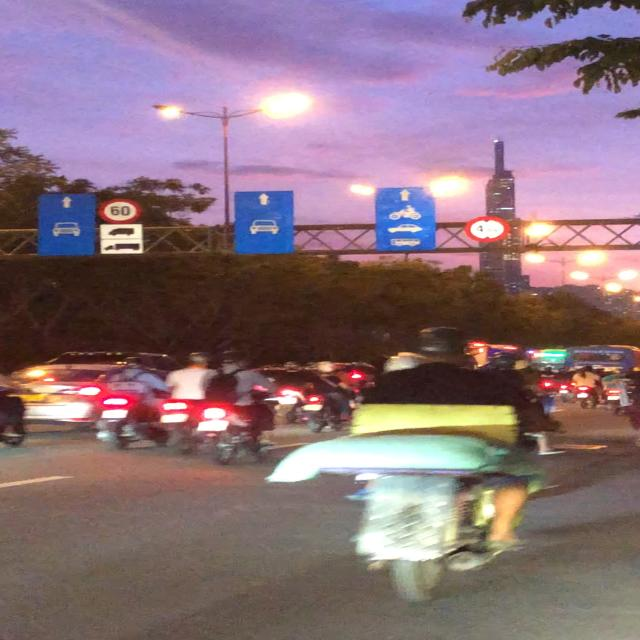Bien bao han che chieu cao: (453, 212, 508, 244)
Bien bao toc do toi da cho phep: (93, 196, 143, 223)
